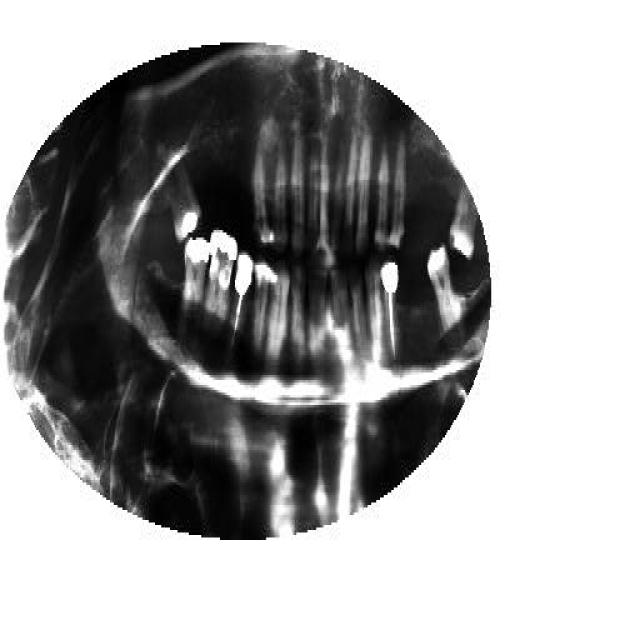Fillings: (206, 230, 238, 330), (169, 158, 201, 242), (428, 245, 457, 330), (181, 238, 210, 322), (255, 262, 270, 350)
Implant: (227, 252, 255, 350), (380, 260, 405, 362)
